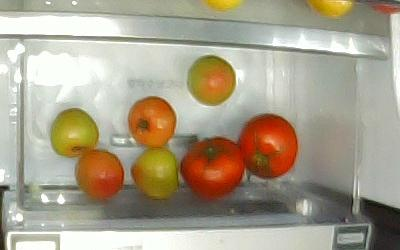tomato: (238, 113, 298, 180), (179, 136, 245, 195), (126, 96, 176, 148), (50, 107, 99, 159), (187, 55, 236, 107), (74, 150, 125, 199), (131, 147, 178, 197)
